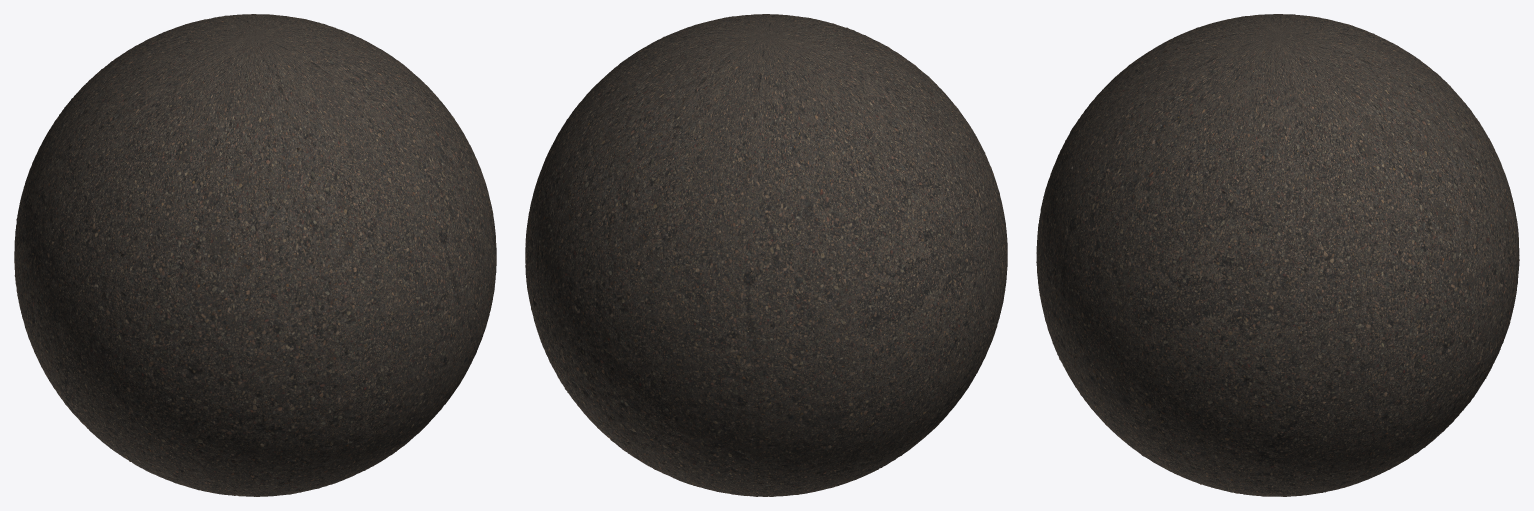
The model's file is asphalt_pit_lane_2k.gltf.
3 renders of one model, left to right at view 1: azimuth 30°, elevation 25°; view 2: azimuth 150°, elevation 25°; view 3: azimuth 270°, elevation 25°, orthographic.
Parts seen in each view (by area): view 1: sphere_gltf; view 2: sphere_gltf; view 3: sphere_gltf.
Boxes of the visible parts, x1=… form: sphere_gltf: x1=14, y1=14, x2=496, y2=496; sphere_gltf: x1=525, y1=14, x2=1007, y2=496; sphere_gltf: x1=1036, y1=14, x2=1519, y2=496.
Size of the model in its own units: 1.99 by 1.99 by 1.99.
1 material, 1 textured.
